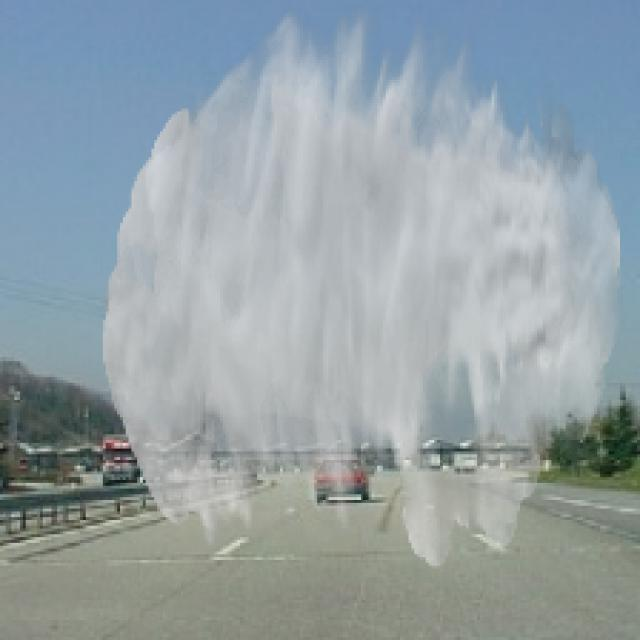smoke: (103, 6, 623, 568)
